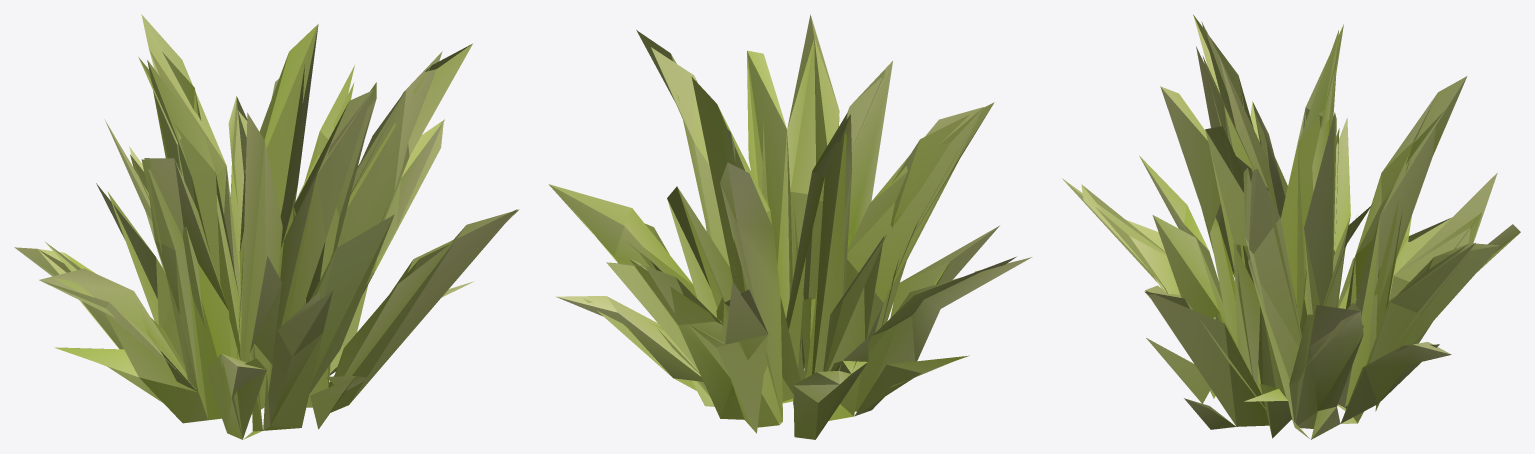
File: grass_tuft.glb
The picture shows the model from 3 angles, left to right: view 1: azimuth 30°, elevation 25°; view 2: azimuth 150°, elevation 25°; view 3: azimuth 270°, elevation 25°; orthographic projection. The views are drawn at different scales.
Visible parts, largest first — view 1: geometry_0; view 2: geometry_0; view 3: geometry_0.
Part boxes in pixels (left/top/right/bottom): geometry_0: left=14, top=14, right=519, bottom=439; geometry_0: left=548, top=14, right=1032, bottom=439; geometry_0: left=1062, top=14, right=1520, bottom=439.
Bounding box in the file's own units: 0.4162 × 0.3 × 0.3737.
